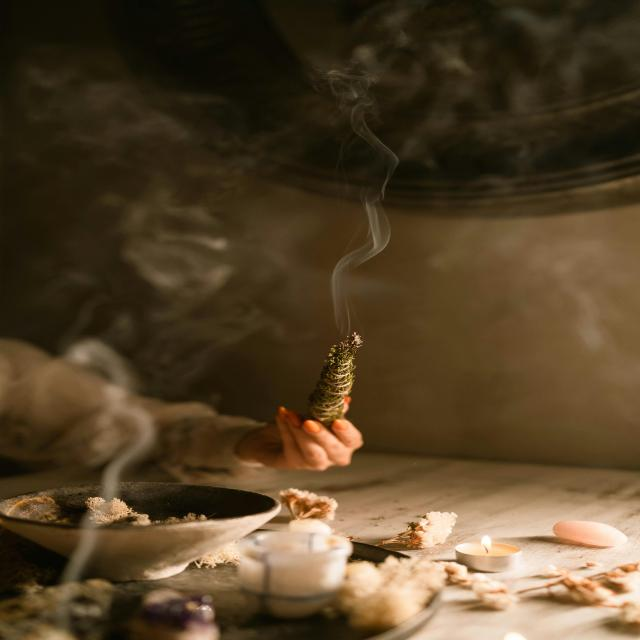smoke: (51, 329, 160, 581), (323, 62, 412, 329), (36, 54, 240, 168), (122, 176, 258, 308)
